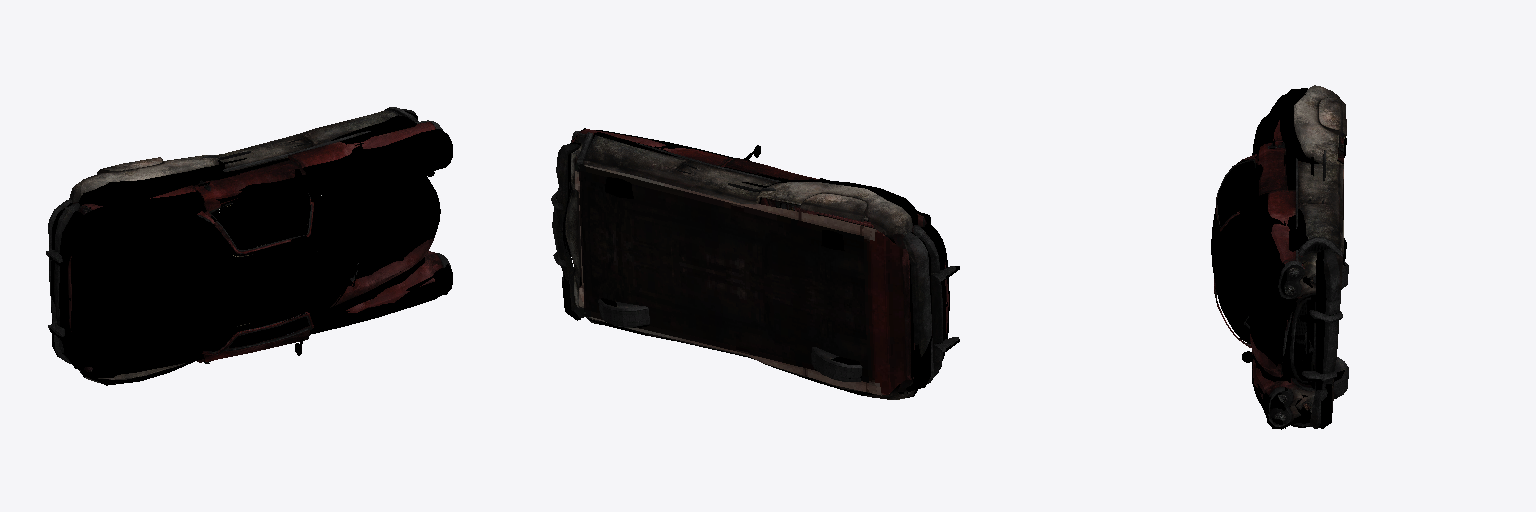
3 views of the same model, side by side, from view 1: azimuth 30°, elevation 25°; view 2: azimuth 150°, elevation 25°; view 3: azimuth 270°, elevation 25° (orthographic).
Parts seen in each view (by area): view 1: mtl_nt_2020_car_02_exterior, mtl_nt_2020_car_01_glass_out, mtl_nt_2020_car_02_dest_exterior, mtl_nt_2020_car_01_glass_in; view 2: mtl_nt_2020_car_02_dest_exterior, mtl_nt_2020_car_02_exterior; view 3: mtl_nt_2020_car_02_dest_exterior, mtl_nt_2020_car_02_exterior, mtl_nt_2020_car_01_glass_out, mtl_nt_2020_car_01_glass_in.
Boxes of the visible parts, x1,y1,x2,y2 form: mtl_nt_2020_car_02_exterior: [50, 111, 452, 385]; mtl_nt_2020_car_01_glass_out: [157, 194, 355, 348]; mtl_nt_2020_car_02_dest_exterior: [46, 107, 450, 383]; mtl_nt_2020_car_01_glass_in: [157, 194, 354, 348]; mtl_nt_2020_car_02_dest_exterior: [551, 129, 958, 399]; mtl_nt_2020_car_02_exterior: [562, 128, 959, 397]; mtl_nt_2020_car_02_dest_exterior: [1214, 85, 1348, 428]; mtl_nt_2020_car_02_exterior: [1216, 88, 1346, 429]; mtl_nt_2020_car_01_glass_out: [1211, 161, 1254, 341]; mtl_nt_2020_car_01_glass_in: [1211, 162, 1253, 340].
Size of the model in its own units: 504 by 248 by 156.
7 materials, 4 textured.